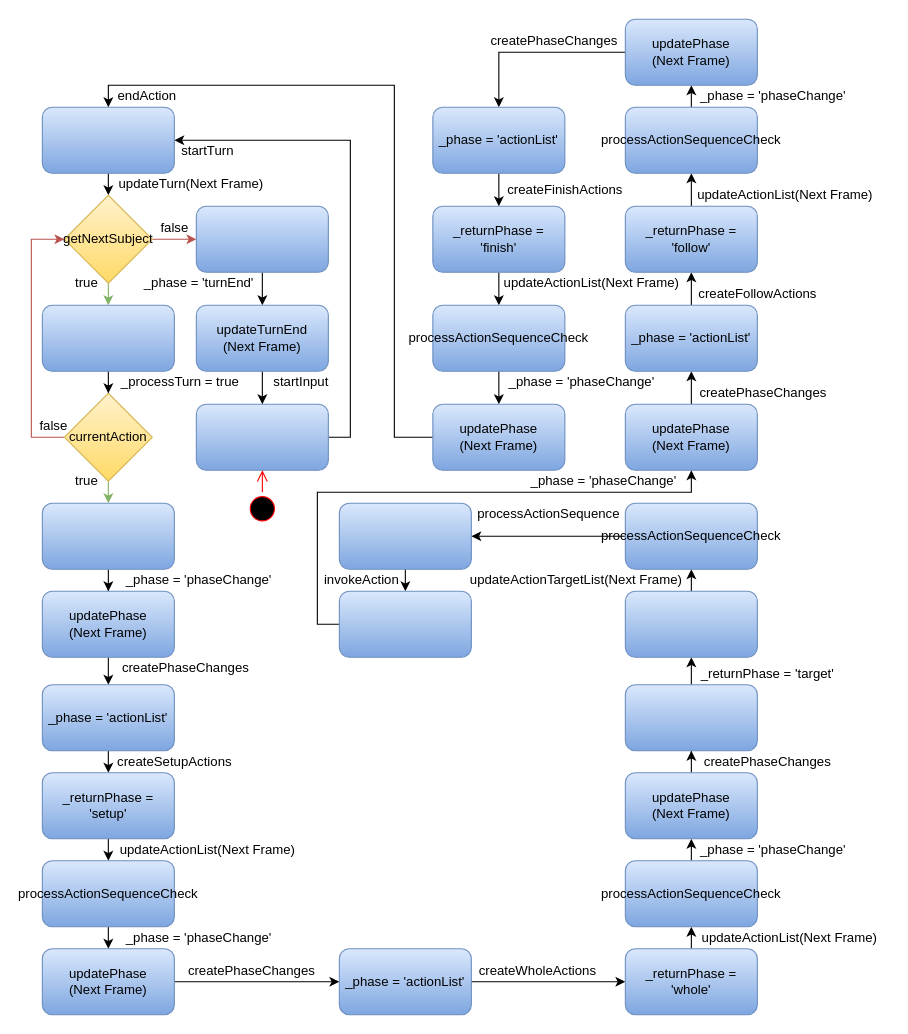
This 908x1034 diagram has some shape labels left out. Here are the shapes that lost their labels. From the top down, the centre of each, then its label:
(107,139): _phase = 'turn'
(261,238): endTurn
(107,337): processTurn
(261,436): _phase = 'input' (Move On Only When All Inputable Actors Are Inputted)
(107,535): startAction
(404,535): actionActionEffect
(404,623): Damage Flow (Move On Only When Finished)
(690,623): _phase = 'actionTargetList'
(690,717): createTargetActions
